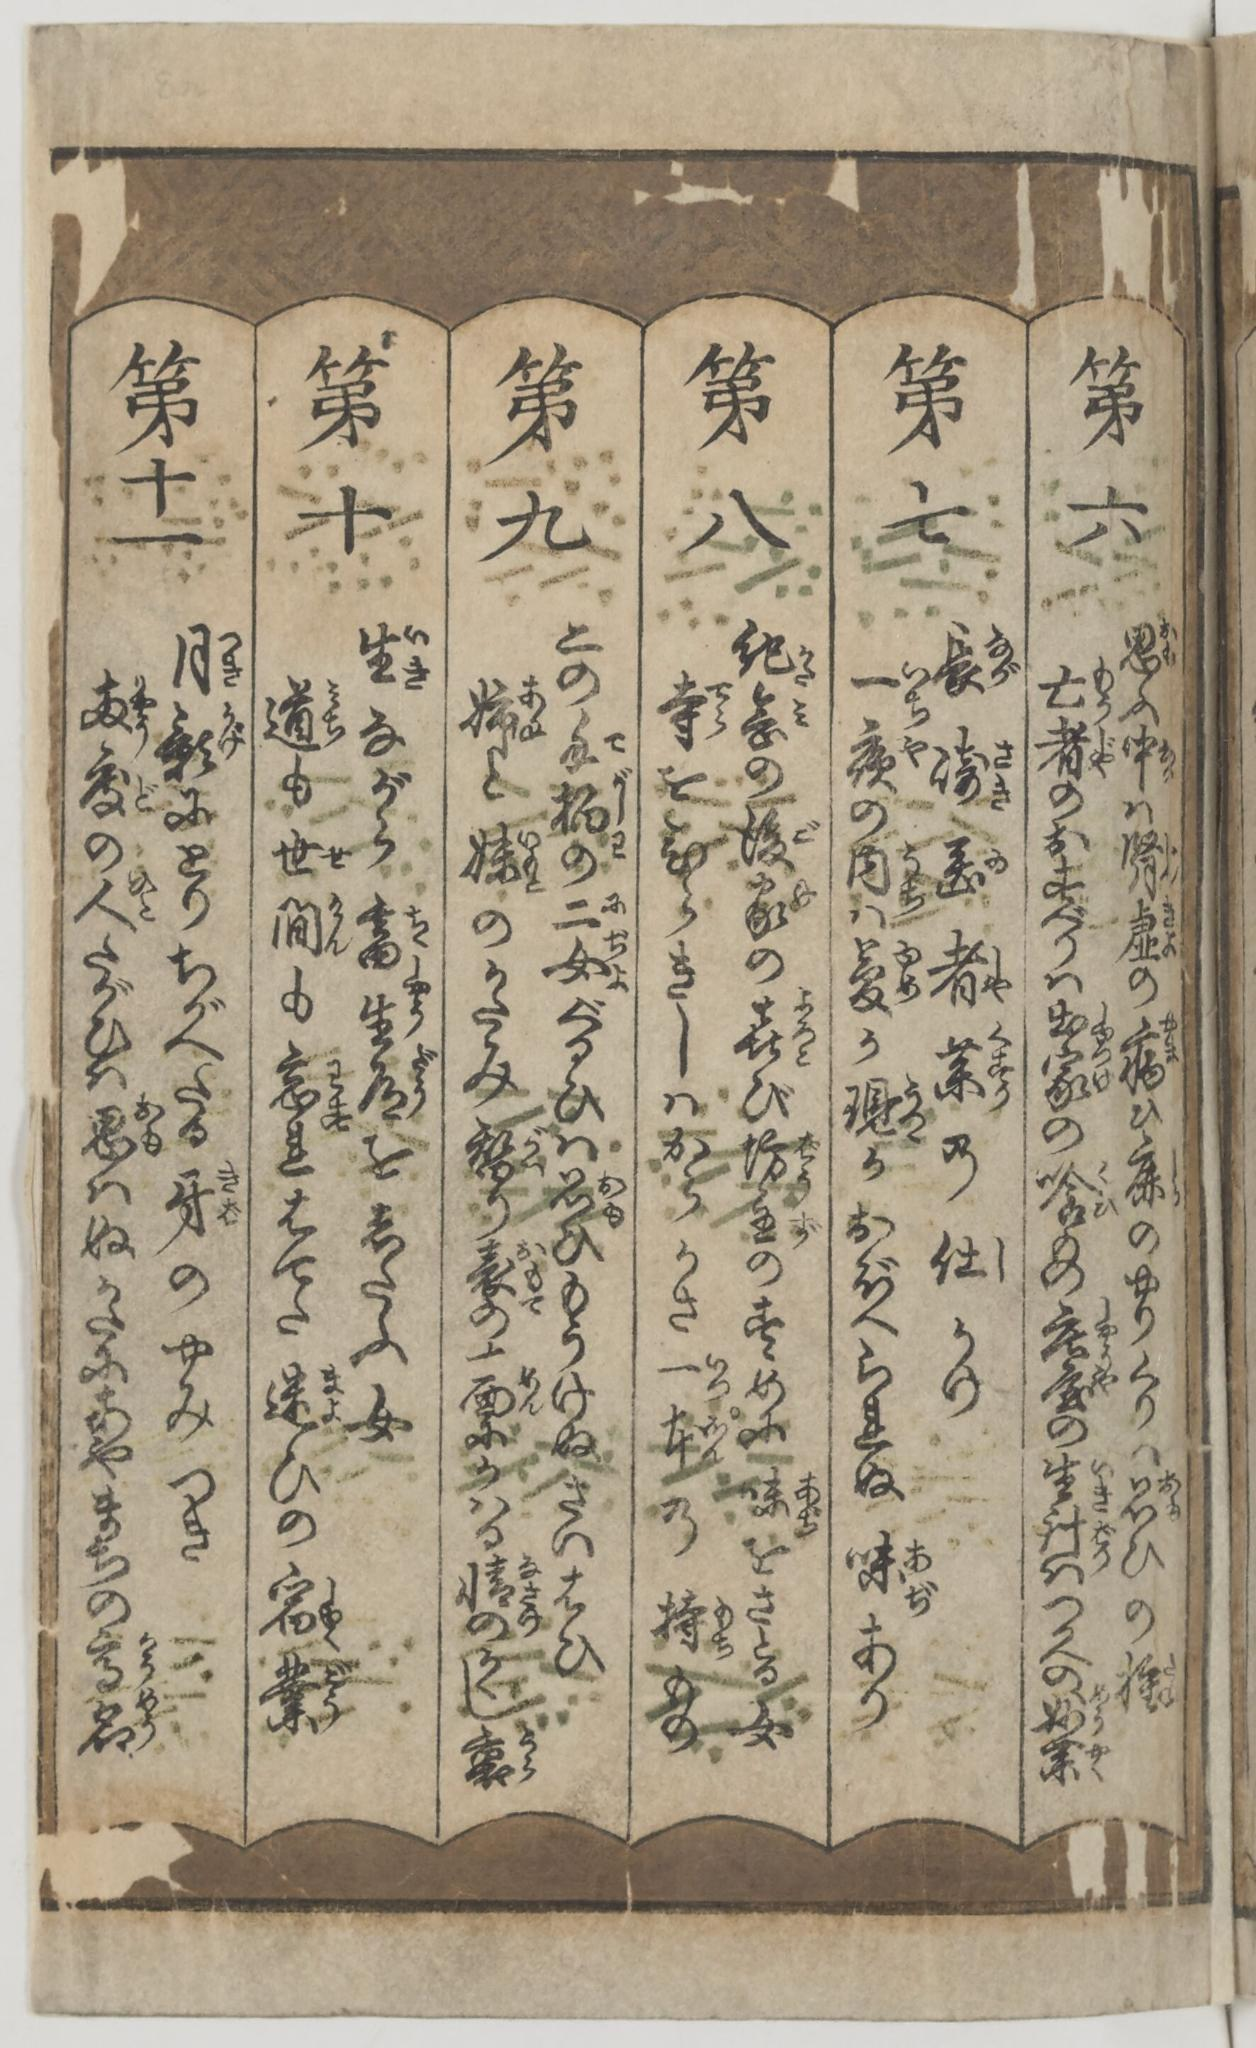MainZone-Character: (256, 1649, 358, 1745), (842, 1527, 949, 1616), (260, 1556, 355, 1652), (931, 1014, 1019, 1116), (550, 768, 639, 867), (452, 1552, 545, 1644), (155, 1159, 244, 1249), (927, 614, 1021, 701), (72, 667, 156, 762), (72, 740, 167, 825), (733, 987, 822, 1075), (931, 730, 1024, 815), (352, 954, 436, 1046), (155, 701, 247, 784), (462, 1236, 551, 1321), (842, 715, 933, 799), (271, 1042, 354, 1132), (352, 888, 434, 980), (924, 929, 1018, 1009), (842, 838, 931, 922), (259, 671, 349, 752), (458, 671, 553, 745), (842, 932, 924, 1015), (839, 1072, 928, 1148), (361, 1042, 442, 1125), (538, 927, 636, 995), (1032, 1156, 1119, 1232), (658, 669, 734, 755), (737, 1464, 825, 1539), (69, 867, 159, 938), (652, 1587, 737, 1662), (461, 821, 545, 895), (734, 619, 820, 692), (733, 1126, 825, 1194), (735, 802, 825, 870), (842, 660, 933, 727), (459, 1720, 542, 1793), (83, 1094, 171, 1163), (936, 828, 1015, 904), (459, 1116, 548, 1183), (165, 622, 246, 696), (921, 1226, 1013, 1290), (271, 886, 351, 960), (262, 1360, 345, 1431), (550, 1163, 635, 1232), (75, 1693, 162, 1758), (1035, 717, 1117, 787), (738, 872, 822, 941), (1038, 1355, 1126, 1419), (351, 622, 431, 692), (462, 1362, 547, 1426), (1032, 1295, 1123, 1353), (1034, 1511, 1120, 1573), (1121, 1009, 1184, 1093), (80, 1628, 161, 1693), (1121, 1131, 1184, 1213), (658, 1403, 731, 1473), (1035, 654, 1117, 715), (738, 683, 814, 749), (1116, 1647, 1187, 1716), (741, 1197, 829, 1252), (1029, 1682, 1114, 1739), (1038, 1453, 1120, 1511), (1035, 999, 1117, 1058), (1117, 613, 1181, 686), (556, 709, 630, 772), (1120, 828, 1186, 898), (1034, 1059, 1116, 1115), (1121, 1469, 1187, 1537), (269, 828, 352, 879), (1121, 726, 1181, 796), (1031, 1739, 1114, 1789), (654, 1350, 733, 1400), (1121, 901, 1181, 964), (548, 891, 633, 927)
MainZone-Ruby: (901, 1533, 942, 1615), (316, 1657, 354, 1741), (985, 1014, 1016, 1116), (313, 1573, 351, 1652), (515, 1236, 550, 1321), (515, 1551, 545, 1641), (319, 1053, 354, 1132), (605, 768, 635, 862), (515, 671, 551, 745), (985, 733, 1019, 812), (404, 1043, 439, 1118), (127, 670, 155, 761), (895, 658, 931, 727), (133, 1091, 170, 1159), (404, 955, 433, 1039), (984, 622, 1019, 690), (792, 987, 820, 1071), (896, 840, 926, 919), (319, 673, 348, 749), (602, 927, 635, 996), (597, 1169, 632, 1232), (123, 866, 159, 926), (898, 1071, 927, 1145), (792, 1469, 823, 1537), (401, 622, 431, 690), (213, 1159, 243, 1230), (893, 935, 923, 1005), (322, 888, 351, 958), (515, 822, 544, 891), (794, 1128, 823, 1195), (1085, 1456, 1120, 1511), (693, 1413, 728, 1467), (983, 939, 1012, 1004), (705, 677, 733, 745), (709, 1593, 737, 1660), (317, 1359, 345, 1426), (218, 699, 247, 762), (1092, 1295, 1120, 1360), (1089, 655, 1116, 724), (1086, 1517, 1117, 1575), (515, 1362, 545, 1420), (133, 1690, 161, 1753), (218, 628, 244, 693), (1157, 1467, 1186, 1524), (787, 1204, 823, 1249), (1091, 1157, 1117, 1220), (133, 1627, 159, 1688), (1089, 721, 1114, 786), (1089, 998, 1114, 1062), (521, 1121, 548, 1178), (515, 1722, 540, 1785), (702, 1350, 733, 1400), (1157, 613, 1181, 673), (1088, 1681, 1113, 1738), (1159, 828, 1181, 892), (402, 901, 431, 949), (132, 771, 161, 818), (787, 875, 819, 917), (1088, 1355, 1119, 1398), (1158, 1650, 1180, 1712), (898, 727, 930, 768), (792, 641, 817, 692), (317, 841, 354, 875), (1161, 898, 1180, 963), (1164, 1142, 1183, 1207), (988, 1229, 1010, 1284), (787, 690, 814, 733), (1159, 1008, 1180, 1065), (1159, 733, 1179, 790), (983, 844, 1013, 879), (599, 723, 630, 758), (1088, 1738, 1110, 1786), (598, 889, 630, 920), (792, 815, 822, 848), (1089, 1062, 1114, 1097)
